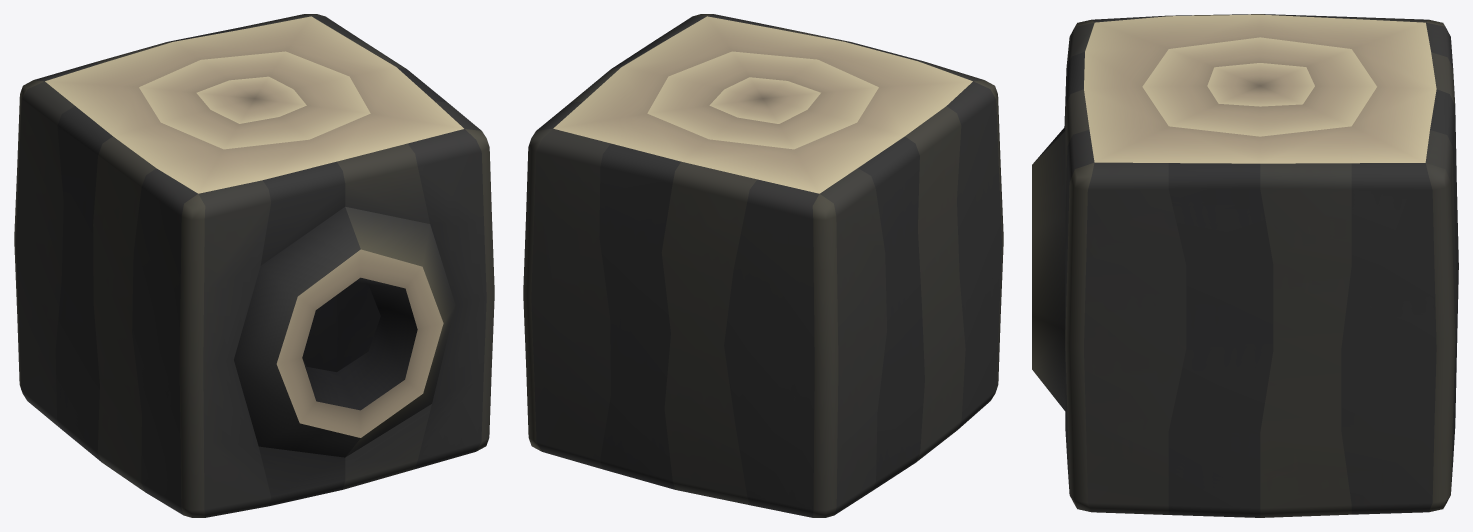
The model's file is ColdWood_Log2.fbx.
3 views of the same model, side by side, from view 1: azimuth 30°, elevation 25°; view 2: azimuth 150°, elevation 25°; view 3: azimuth 270°, elevation 25° (orthographic). The views are drawn at different scales.
Visible parts, largest first — view 1: ColdWood_Log2_LOD0; view 2: ColdWood_Log2_LOD0; view 3: ColdWood_Log2_LOD0.
Part boxes in pixels (x1,y1,x2,y2): ColdWood_Log2_LOD0: (14,14,494,517); ColdWood_Log2_LOD0: (523,14,1003,517); ColdWood_Log2_LOD0: (1032,14,1458,517).
Size of what is drawn, in the model's own units: 1.09 by 1.09 by 1.17.
